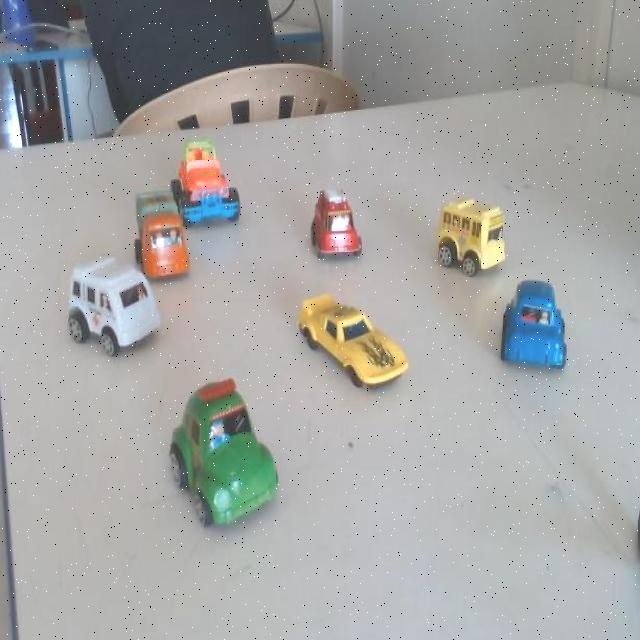car: (157, 378, 284, 531), (295, 288, 409, 393), (64, 244, 162, 365), (176, 131, 251, 226), (427, 196, 504, 286), (499, 280, 571, 374), (130, 179, 191, 288), (300, 182, 363, 272)
